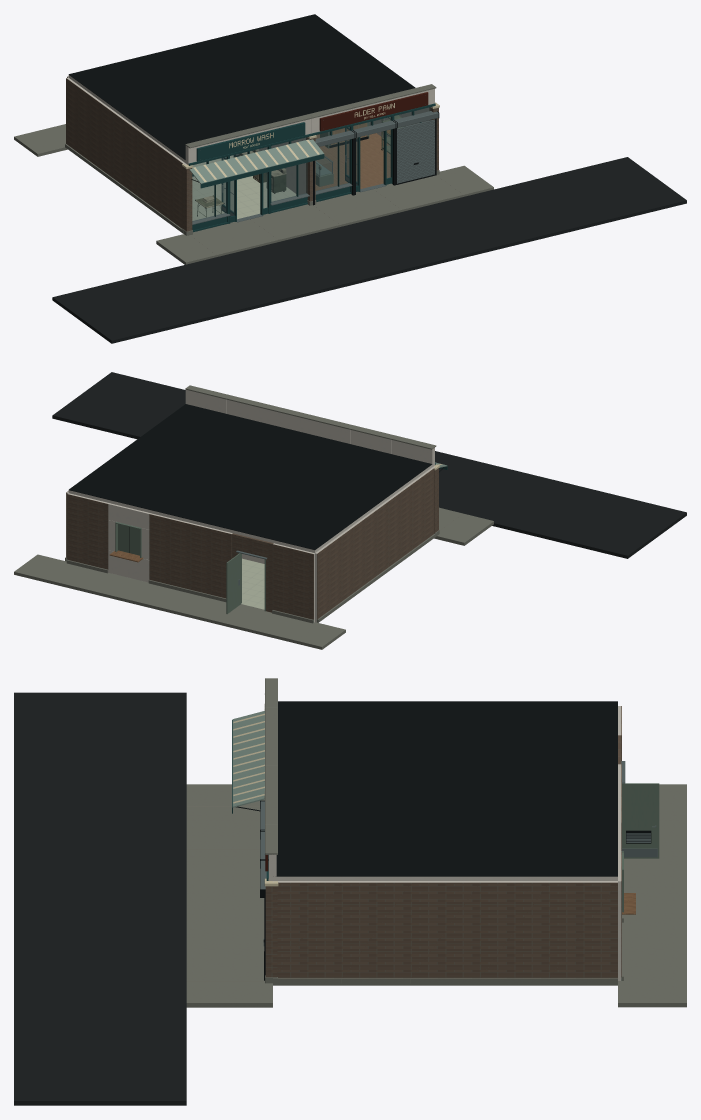
The model's file is storefronts_example.glb.
The picture shows the model from 3 angles, top to bottom: view 1: azimuth 30°, elevation 25°; view 2: azimuth 150°, elevation 25°; view 3: azimuth 270°, elevation 25°; orthographic projection. The views are drawn at different scales.
Parts seen in each view (by area): view 1: SITE_street, SITE_sidewalk, INSTANCE__roller_shutter_2m__126, INSTANCE__glazed_display_bay_2m__061, INSTANCE__masonry_wall_2m__112, INSTANCE__masonry_wall_2m__114, INSTANCE__masonry_wall_2m__116, INSTANCE__masonry_wall_2m__110, INSTANCE__glazed_display_bay_2m__010, INSTANCE__masonry_wall_2m__108, INSTANCE__glazed_display_bay_2m__045, INSTANCE__morrow_wash_sign__124 (+45 smaller); view 2: SITE_street, SITE_rear_apron, INSTANCE__masonry_wall_2m__015, INSTANCE__masonry_wall_2m__100, INSTANCE__masonry_wall_2m__066, INSTANCE__service_hatch_2m__084, INSTANCE__masonry_wall_2m__050, INSTANCE__masonry_wall_2m__116, INSTANCE__masonry_wall_2m__110, INSTANCE__masonry_wall_2m__114, INSTANCE__masonry_wall_2m__112, INSTANCE__masonry_wall_2m__108 (+41 smaller); view 3: SITE_street, SITE_sidewalk, SITE_rear_apron, INSTANCE__masonry_wall_2m__111, INSTANCE__masonry_wall_2m__113, INSTANCE__masonry_wall_2m__115, INSTANCE__masonry_wall_2m__117, INSTANCE__masonry_wall_2m__109, INSTANCE__rear_service_door__034, INSTANCE__roof_slab_2m__088, INSTANCE__roof_slab_2m__090, INSTANCE__roof_slab_2m__092 (+32 smaller).
Boxes of the visible parts, box(x1,y1,x2,y2) form: SITE_street: box(52, 157, 686, 343); SITE_sidewalk: box(156, 165, 493, 264); INSTANCE__roller_shutter_2m__126: box(396, 119, 435, 184); INSTANCE__glazed_display_bay_2m__061: box(315, 139, 352, 201); INSTANCE__masonry_wall_2m__112: box(112, 112, 139, 198); INSTANCE__masonry_wall_2m__114: box(88, 95, 115, 181); INSTANCE__masonry_wall_2m__116: box(65, 77, 91, 164); INSTANCE__masonry_wall_2m__110: box(136, 130, 162, 216); INSTANCE__glazed_display_bay_2m__010: box(192, 175, 230, 232); INSTANCE__masonry_wall_2m__108: box(160, 147, 186, 233); INSTANCE__glazed_display_bay_2m__045: box(270, 163, 309, 213); INSTANCE__morrow_wash_sign__124: box(196, 122, 305, 161); SITE_street: box(52, 372, 686, 558); SITE_rear_apron: box(14, 554, 345, 649); INSTANCE__masonry_wall_2m__015: box(272, 543, 314, 623); INSTANCE__masonry_wall_2m__100: box(66, 493, 109, 573); INSTANCE__masonry_wall_2m__066: box(148, 513, 191, 593); INSTANCE__service_hatch_2m__084: box(108, 503, 150, 582); INSTANCE__masonry_wall_2m__050: box(189, 523, 232, 602); INSTANCE__masonry_wall_2m__116: box(315, 536, 342, 622); INSTANCE__masonry_wall_2m__110: box(386, 484, 413, 570); INSTANCE__masonry_wall_2m__114: box(339, 518, 365, 604); INSTANCE__masonry_wall_2m__112: box(363, 501, 389, 587); INSTANCE__masonry_wall_2m__108: box(410, 466, 436, 552); SITE_street: box(14, 692, 186, 1105); SITE_sidewalk: box(186, 784, 272, 1007); SITE_rear_apron: box(618, 784, 686, 1007); INSTANCE__masonry_wall_2m__111: box(342, 881, 410, 983); INSTANCE__masonry_wall_2m__113: box(411, 881, 479, 983); INSTANCE__masonry_wall_2m__115: box(480, 881, 548, 983); INSTANCE__masonry_wall_2m__117: box(549, 881, 617, 983); INSTANCE__masonry_wall_2m__109: box(273, 881, 341, 983); INSTANCE__rear_service_door__034: box(622, 783, 659, 858); INSTANCE__roof_slab_2m__088: box(342, 847, 410, 880); INSTANCE__roof_slab_2m__090: box(411, 847, 479, 880); INSTANCE__roof_slab_2m__092: box(480, 847, 548, 880).
Size of the model in its own units: 28 by 4.34 by 19.5.
125 materials, 118 textured.
